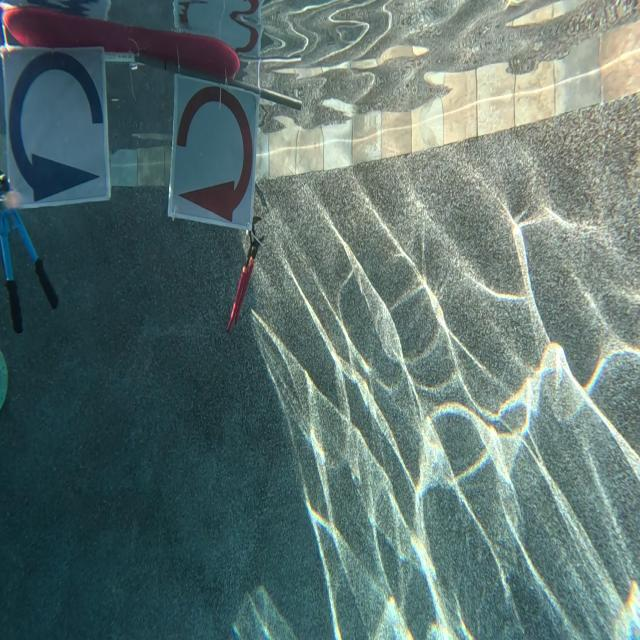blue_side: (4, 48, 108, 210)
red_side: (168, 76, 252, 226)
